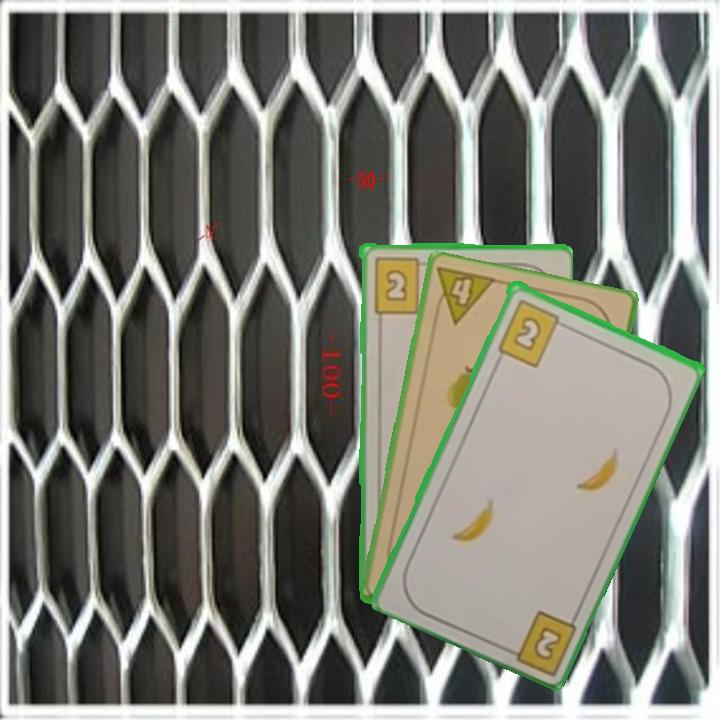2b: (493, 295, 570, 369), (499, 606, 579, 675), (370, 254, 431, 315)
4p: (429, 264, 498, 328)
